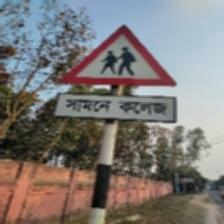College-in-front: (53, 20, 199, 135)
